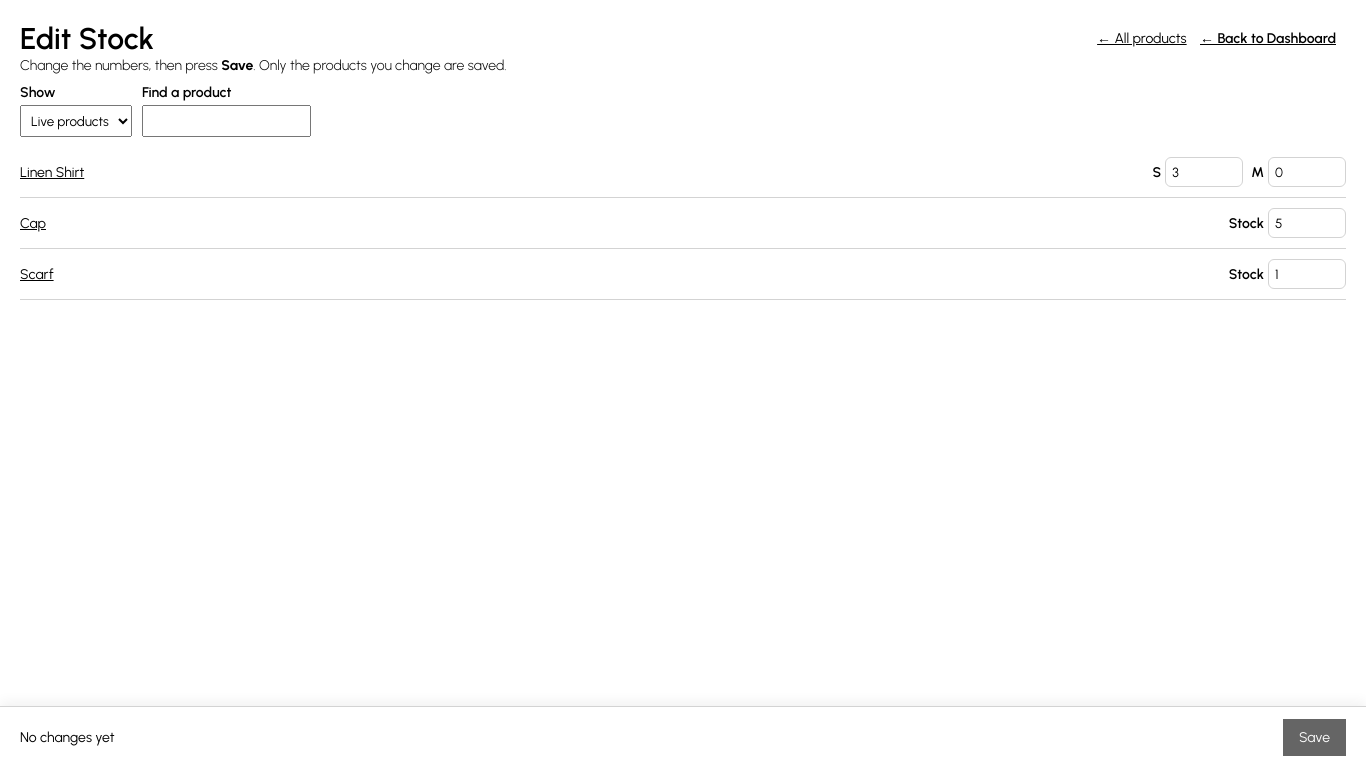
Test case: AdminStock › explains products that changed while editing, and reloads them
This screenshot has width=1366, height=768.
Replace the text in the number field named "Cap stock" with "9" at coordinates (1307, 223), box [1268, 208, 1346, 238]
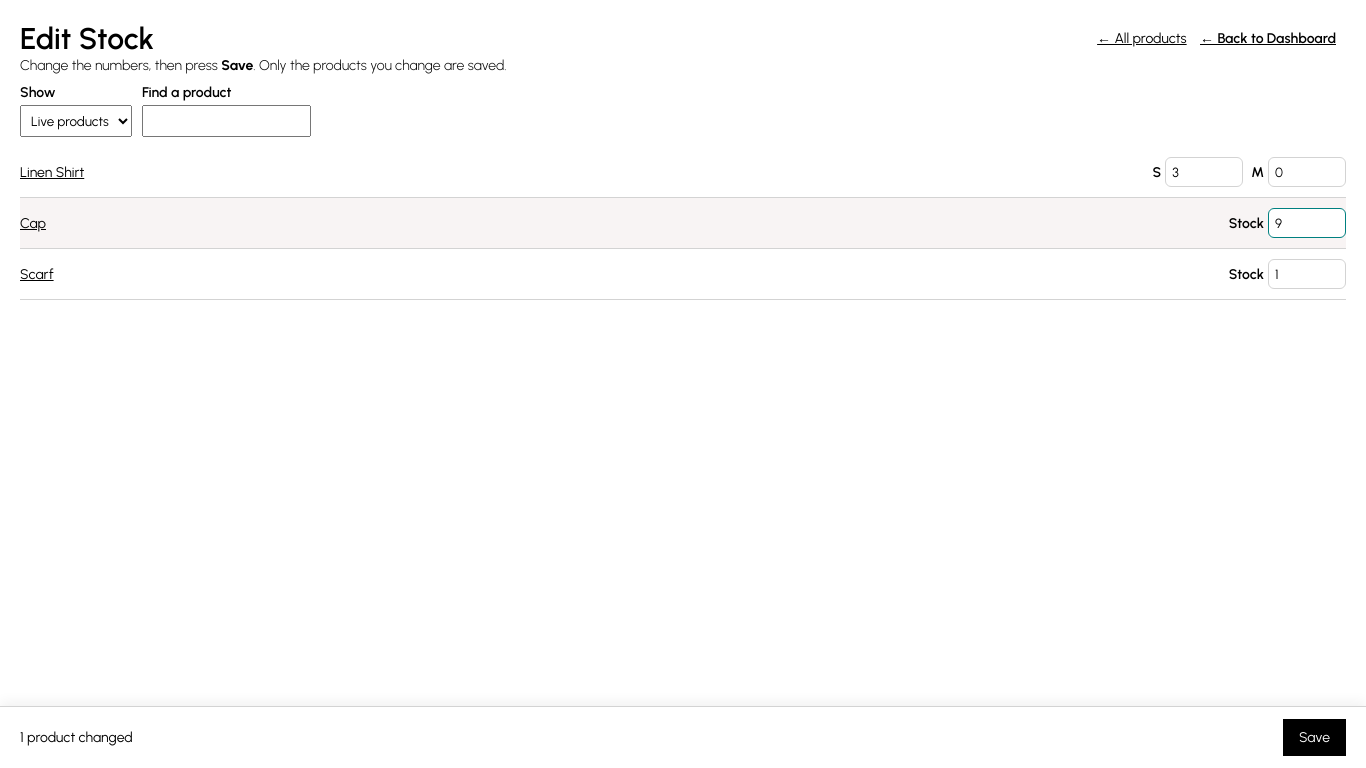
Click the button "Save" at coordinates (1314, 738), box [1283, 719, 1346, 756]
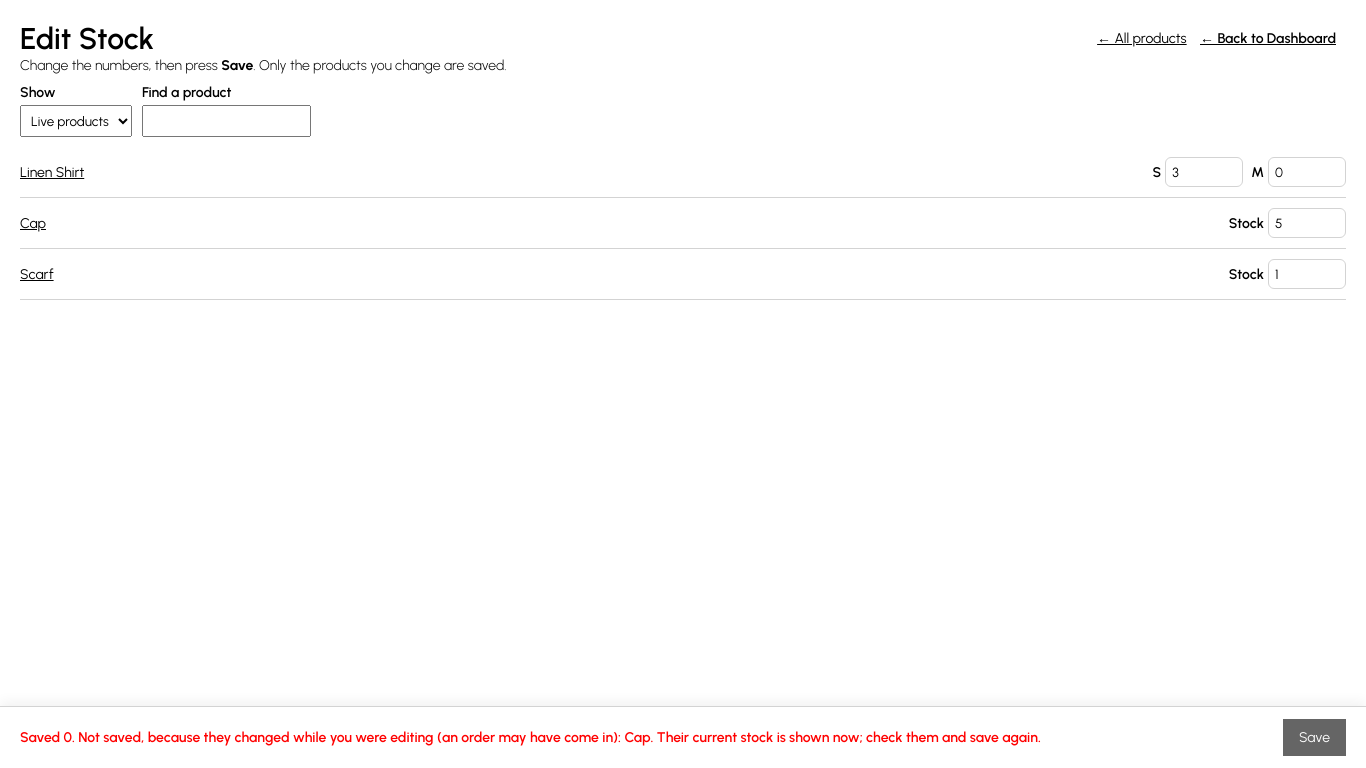
expect the message shows "Not saved, because they changed while you were editing (an order may have come in): Cap.": met, box [20, 729, 1041, 746]
